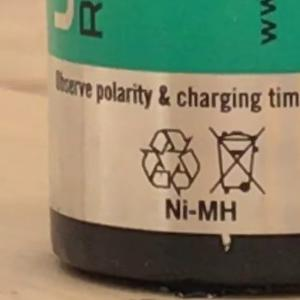NI-MH: (156, 191, 246, 230)
